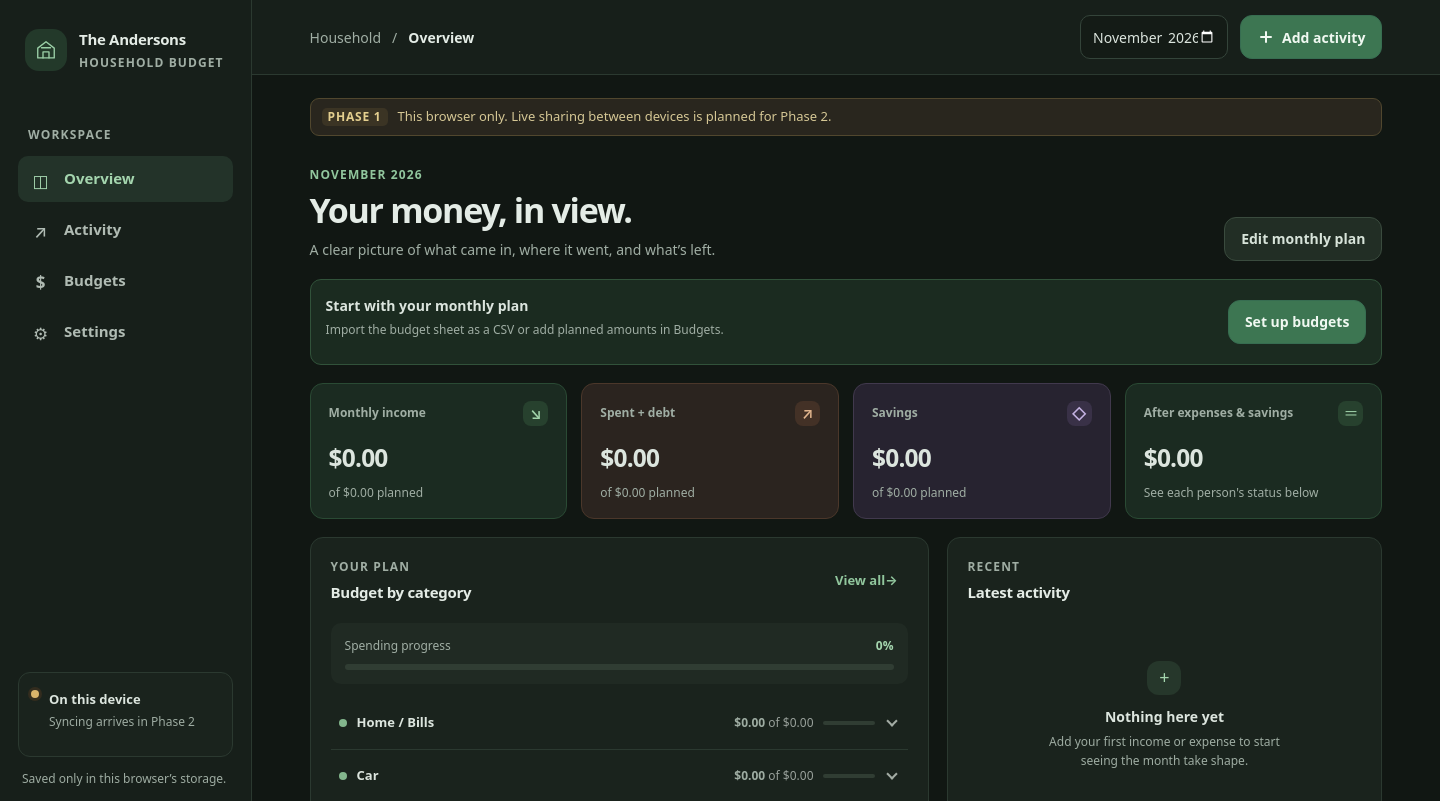
Test: budget app phase 1 › clearly explains device-local storage and adds activity to the month
Expected: the text "This browser only" is shown, x1=398 y1=107 x2=831 y2=125
Step 1. Click the button "Add activity" → (1311,37), box x1=1240 y1=15 x2=1382 y2=59
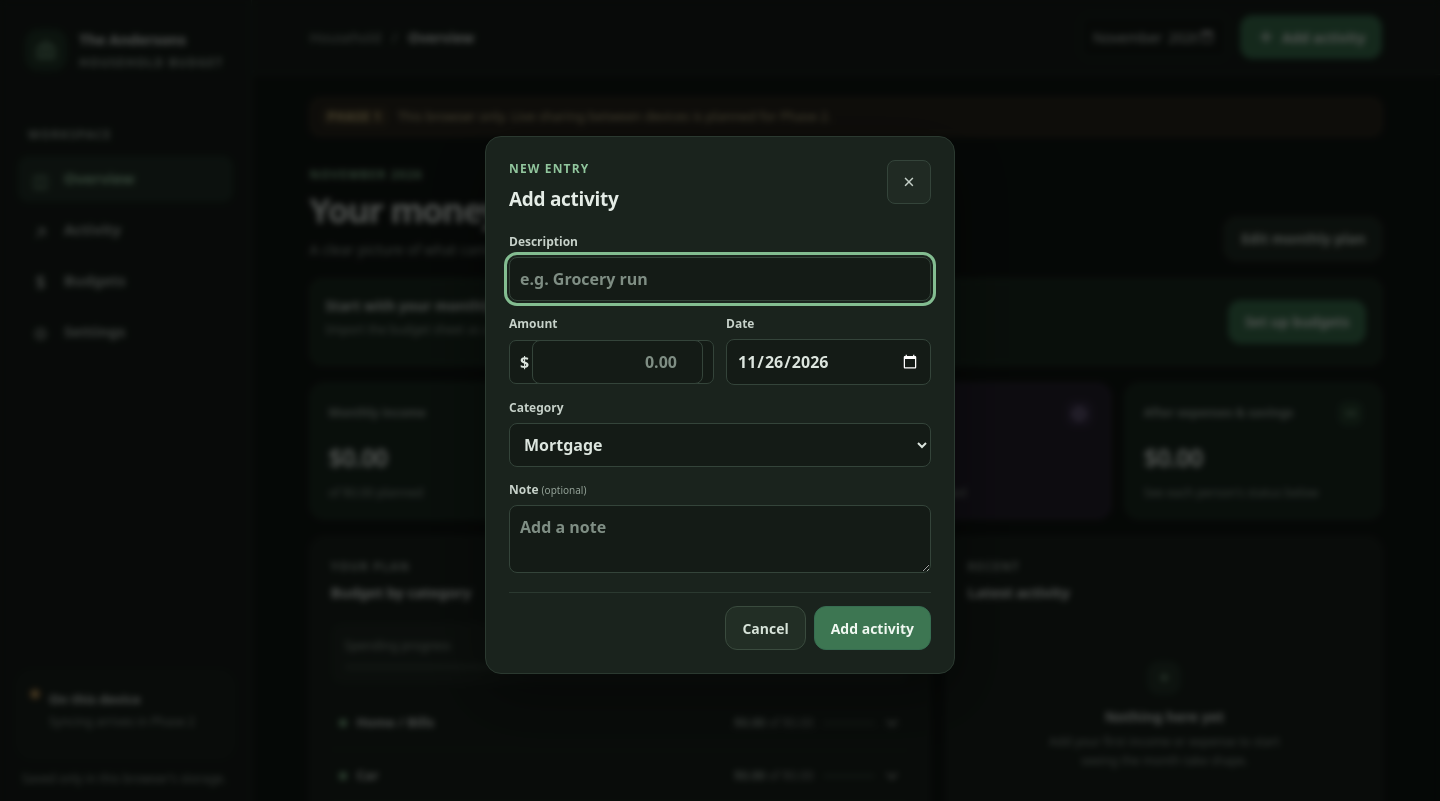
Step 2. Type "Grocery run" into the field labelled "Description" → (720,279), box x1=509 y1=257 x2=931 y2=301
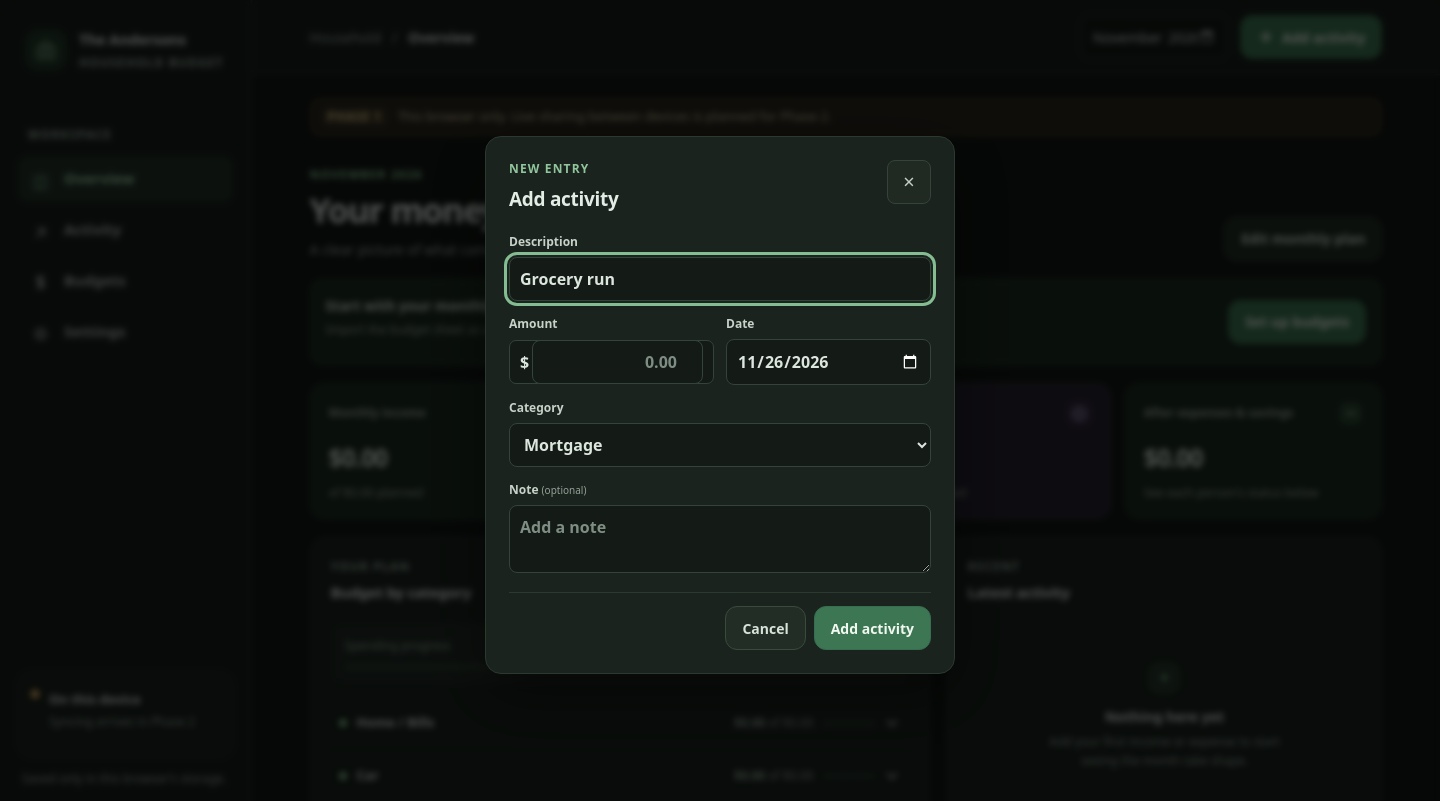
Step 3. Type "42.15" into the number field labelled "Amount $" → (618,362), box x1=532 y1=340 x2=703 y2=384
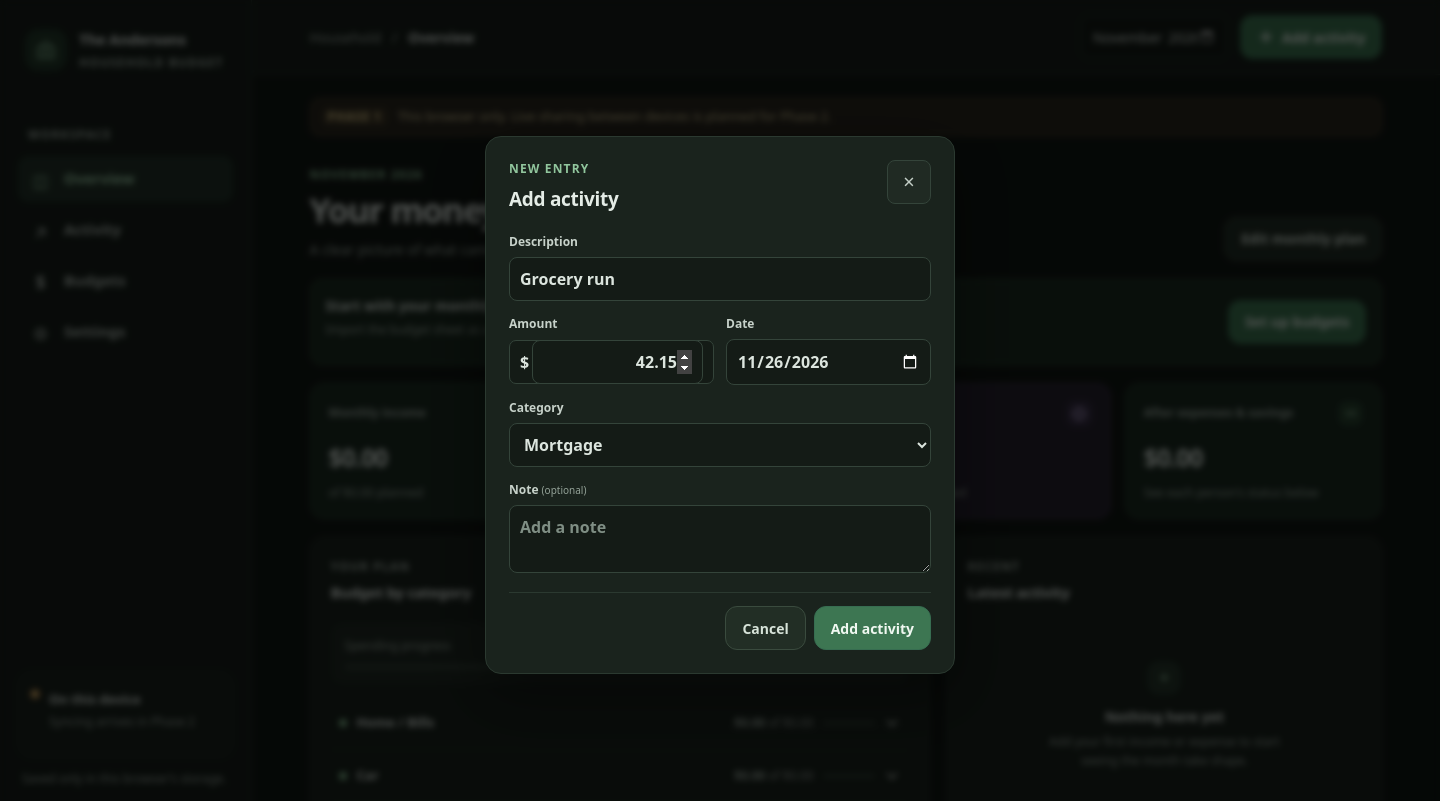
Step 4. Select "Kroger/Giant Eagle" in the dropdown labelled "Category" → (720,445), box x1=509 y1=423 x2=931 y2=467
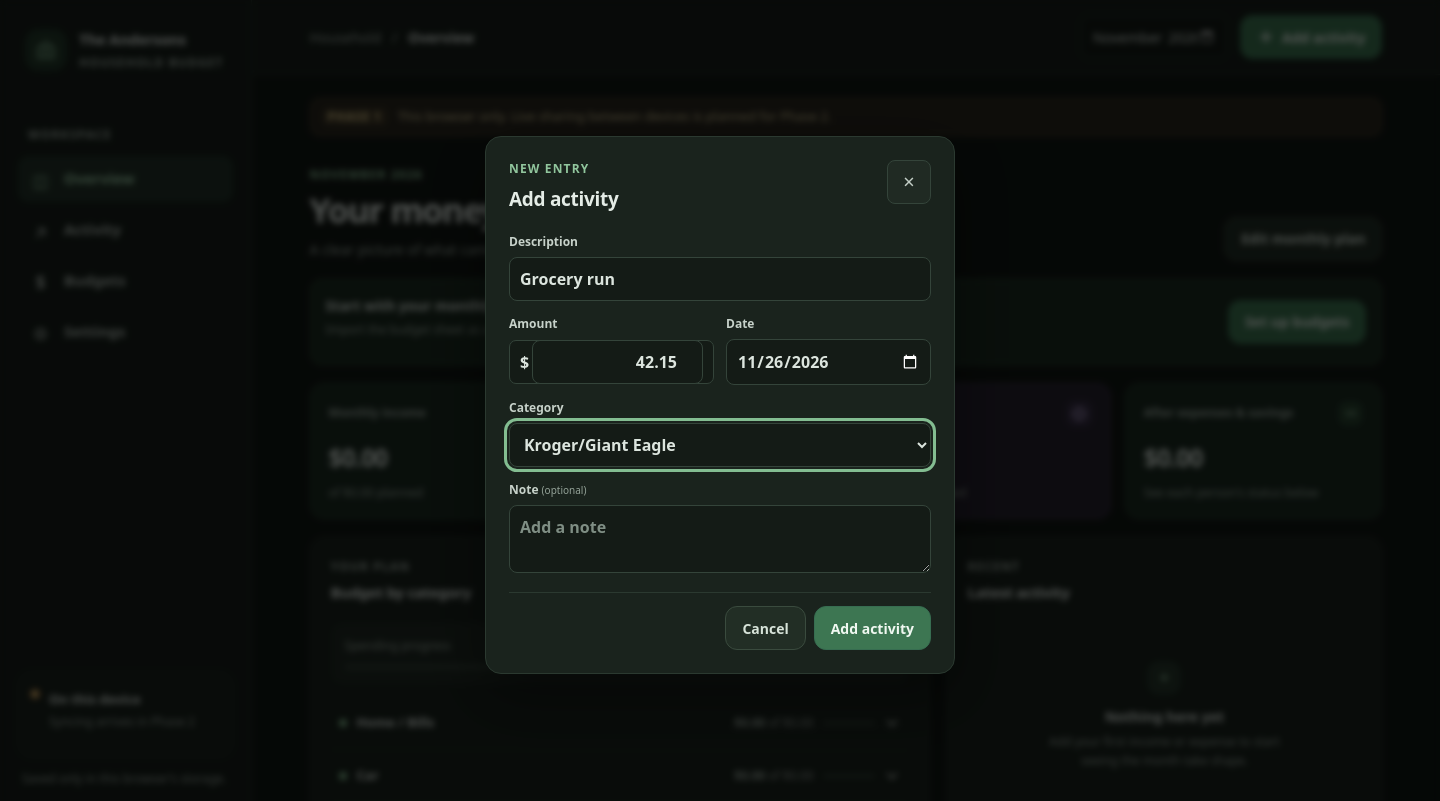
Step 5. Click the button "Add activity" → (872,628), box x1=814 y1=606 x2=931 y2=650
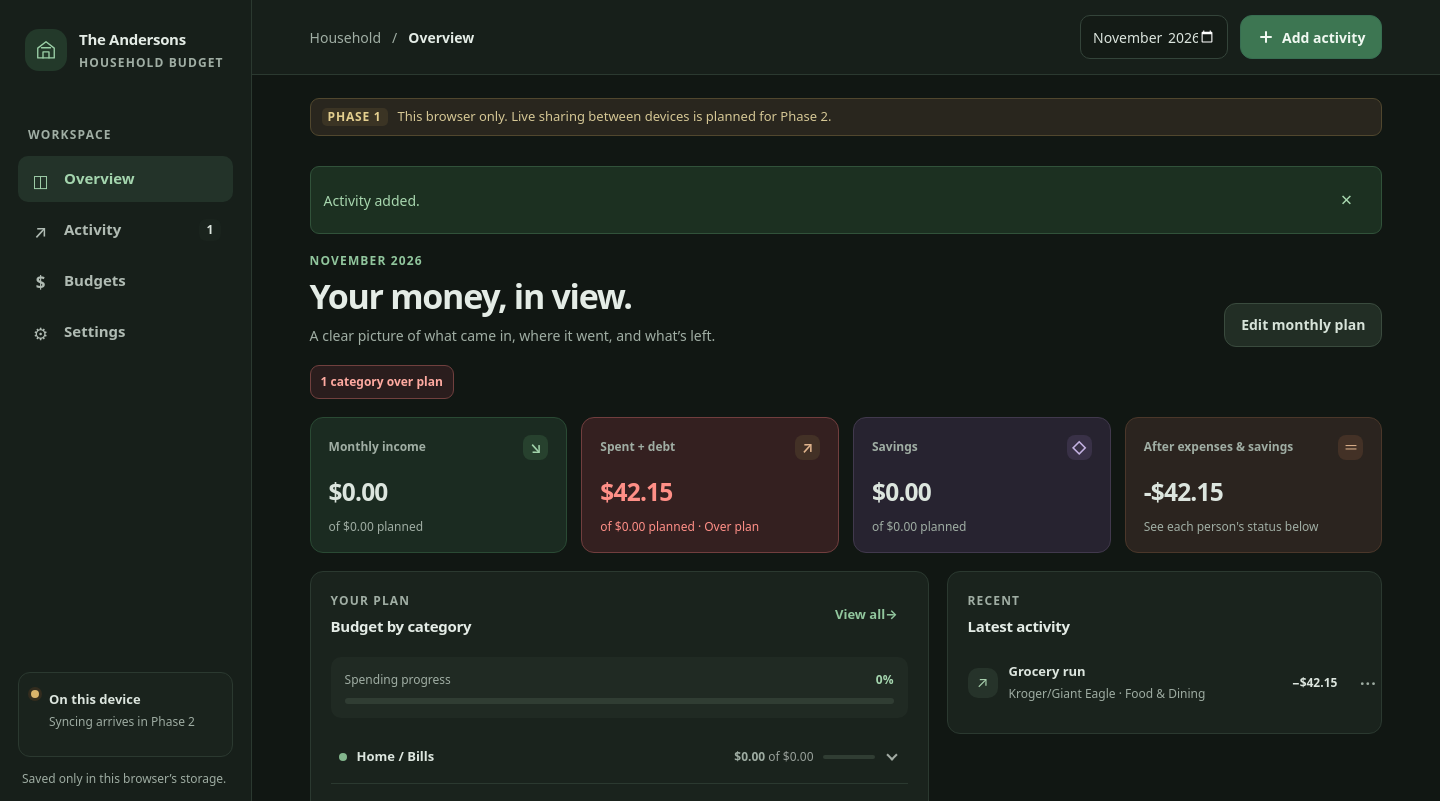
Result: the text "Grocery run" is shown at x1=1008 y1=662 x2=1086 y2=680
